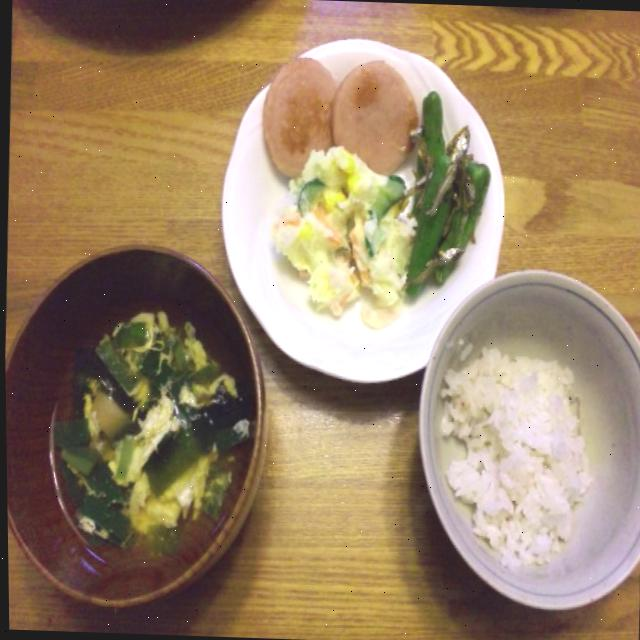汤锅炖物: (179, 520, 481, 640)
米饭主食: (196, 0, 479, 360)
